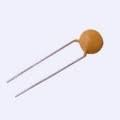ceramic capacitor: (45, 9, 109, 85)
